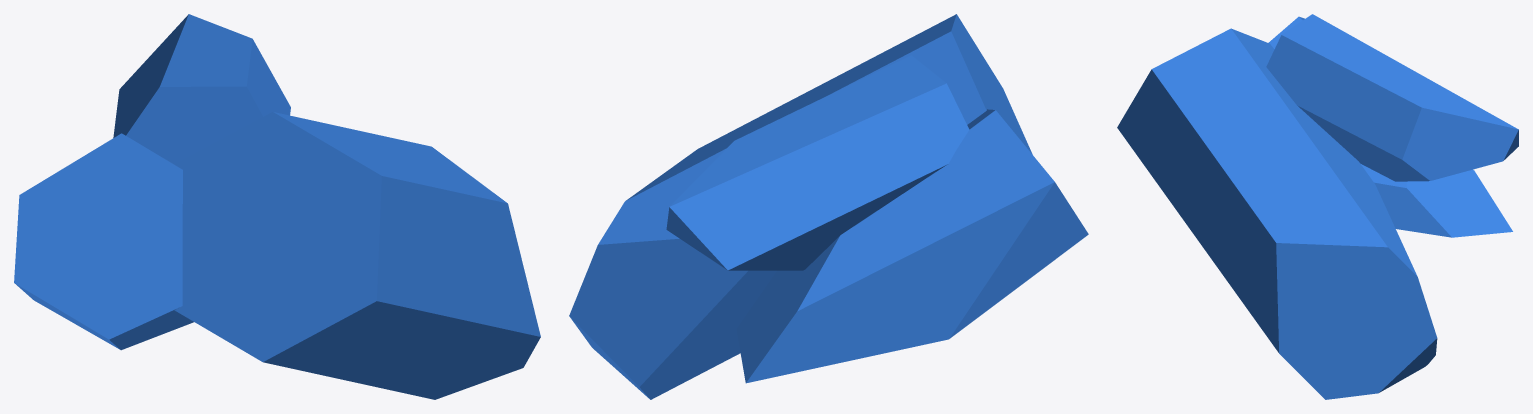
Rendered from definity.crystal_rock_crystal_leftbottom.glb.
3 renders of one model, left to right at view 1: azimuth 30°, elevation 25°; view 2: azimuth 150°, elevation 25°; view 3: azimuth 270°, elevation 25°, orthographic. The views are drawn at different scales.
Parts seen in each view (by area): view 1: Cylinder.018, Cylinder.019, Cylinder.020; view 2: Cylinder.019, Cylinder.020, Cylinder.018; view 3: Cylinder.018, Cylinder.020, Cylinder.019.
Part boxes in pixels (box(x1,y1,x2,y2)): Cylinder.018: box(174, 112, 540, 399); Cylinder.019: box(14, 133, 193, 350); Cylinder.020: box(113, 14, 290, 164); Cylinder.019: box(736, 109, 1088, 383); Cylinder.020: box(666, 55, 969, 270); Cylinder.018: box(569, 14, 1032, 399); Cylinder.018: box(1117, 28, 1437, 399); Cylinder.020: box(1266, 14, 1518, 181); Cylinder.019: box(1268, 16, 1512, 237).
Size of the model in its own units: 1.76 by 1.27 by 1.68.
